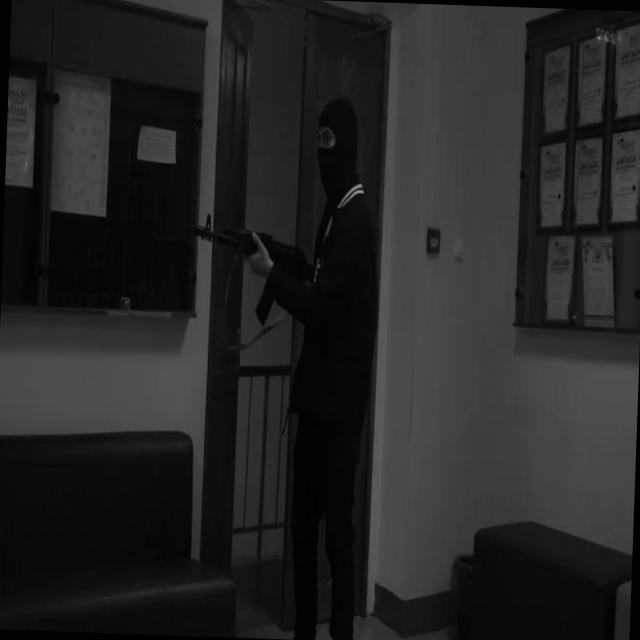gun: (188, 210, 326, 328)
person with a gun: (178, 91, 384, 640)
